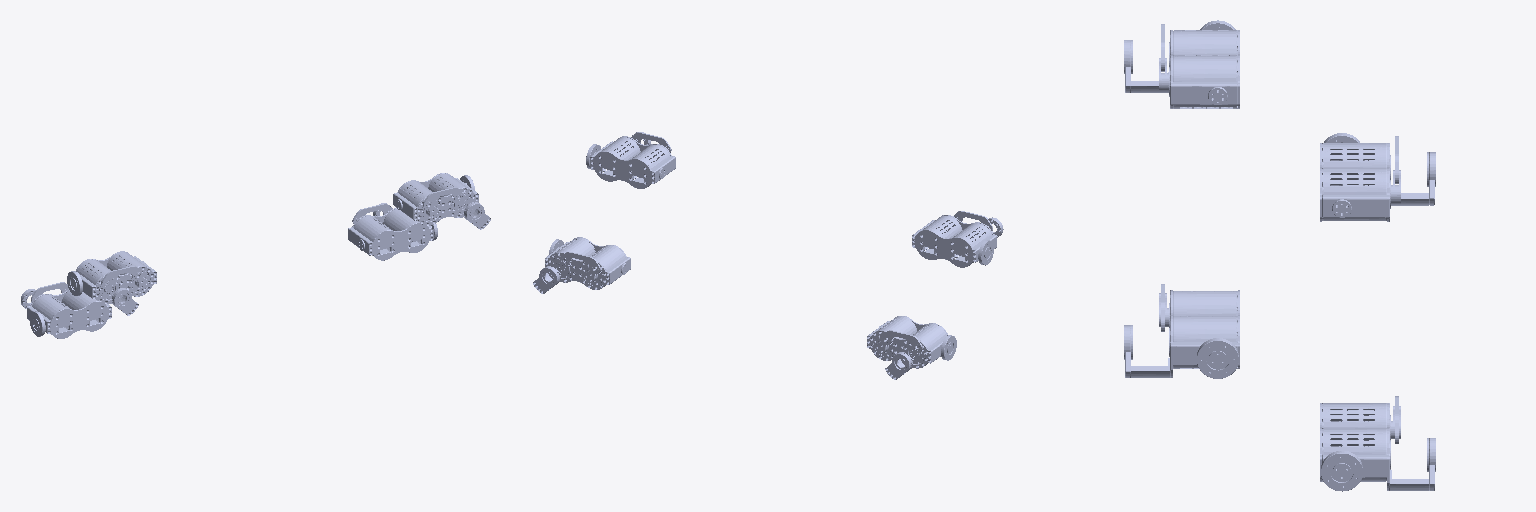
URDF robot description (asm_quadruped_urdf_global2):
<?xml version="1.0" encoding="utf-8"?>
<!-- This URDF was automatically created by SolidWorks to URDF Exporter! Originally created by [author] ([email redacted]) 
     Commit Version: 1.6.0-4-g7f85cfe  Build Version: 1.6.7995.38578
     For more information, please see http://wiki.ros.org/sw_urdf_exporter -->
<robot
  name="asm_quadruped_urdf_global2">
  <link
    name="trunk">
    <inertial>
      <origin
        xyz="0.0066819 -1.5496E-06 -4.069E-05"
        rpy="0 0 0" />
      <mass
        value="3.9043" />
      <inertia
        ixx="0.0056295"
        ixy="1.1505E-06"
        ixz="3.4096E-07"
        iyy="0.0057726"
        iyz="2.6936E-07"
        izz="0.0086203" />
    </inertial>
    <visual>
      <origin
        xyz="0 0 0"
        rpy="0 0 0" />
      <geometry>
        <mesh
          filename="package://asm_quadruped_urdf_global2/meshes/trunk.STL" />
      </geometry>
      <material
        name="">
        <color
          rgba="0.79216 0.81961 0.93333 1" />
      </material>
    </visual>
    <collision>
      <origin
        xyz="0 0 0"
        rpy="0 0 0" />
      <geometry>
        <mesh
          filename="package://asm_quadruped_urdf_global2/meshes/trunk.STL" />
      </geometry>
    </collision>
  </link>
  <link
    name="torso_FL">
    <inertial>
      <origin
        xyz="0.10484 0.028781 0.00052715"
        rpy="0 0 0" />
      <mass
        value="0.90298" />
      <inertia
        ixx="0.00061694"
        ixy="-8.0441E-07"
        ixz="-7.7695E-06"
        iyy="0.00079241"
        iyz="-9.945E-07"
        izz="0.00078387" />
    </inertial>
    <visual>
      <origin
        xyz="0 0 0"
        rpy="0 0 0" />
      <geometry>
        <mesh
          filename="package://asm_quadruped_urdf_global2/meshes/torso_FL.STL" />
      </geometry>
      <material
        name="">
        <color
          rgba="0.79216 0.81961 0.93333 1" />
      </material>
    </visual>
    <collision>
      <origin
        xyz="0 0 0"
        rpy="0 0 0" />
      <geometry>
        <mesh
          filename="package://asm_quadruped_urdf_global2/meshes/torso_FL.STL" />
      </geometry>
    </collision>
  </link>
  <joint
    name="HAA_FL"
    type="revolute">
    <origin
      xyz="0.1958 0 0.095"
      rpy="1.5708 0 0" />
    <parent
      link="trunk" />
    <child
      link="torso_FL" />
    <axis
      xyz="1 0 0" />
    <limit
      lower="0"
      upper="0"
      effort="0"
      velocity="0" />
  </joint>
  <link
    name="thigh_FL">
    <inertial>
      <origin
        xyz="-0.0841820228042324 0.0323812254920831 0.0117646692013723"
        rpy="0 0 0" />
      <mass
        value="0.197725067513953" />
      <inertia
        ixx="3.63731130183477E-05"
        ixy="2.46376714816556E-07"
        ixz="2.72820821144183E-05"
        iyy="0.000648919844755292"
        iyz="-2.63238413268589E-07"
        izz="0.000619067262733183" />
    </inertial>
    <visual>
      <origin
        xyz="0 0 0"
        rpy="0 0 0" />
      <geometry>
        <mesh
          filename="package://asm_quadruped_urdf_global2/meshes/thigh_FL.STL" />
      </geometry>
      <material
        name="">
        <color
          rgba="0.792156862745098 0.819607843137255 0.933333333333333 1" />
      </material>
    </visual>
    <collision>
      <origin
        xyz="0 0 0"
        rpy="0 0 0" />
      <geometry>
        <mesh
          filename="package://asm_quadruped_urdf_global2/meshes/thigh_FL.STL" />
      </geometry>
    </collision>
  </link>
  <joint
    name="HFE_FL"
    type="revolute">
    <origin
      xyz="0.1435 0.0725 0"
      rpy="0 0 0" />
    <parent
      link="torso_FL" />
    <child
      link="thigh_FL" />
    <axis
      xyz="0 1 0" />
    <limit
      lower="0"
      upper="0"
      effort="0"
      velocity="0" />
  </joint>
  <link
    name="shank_FL">
    <inertial>
      <origin
        xyz="-0.145381737250951 0.0209975832186695 -0.00964787397728841"
        rpy="0 0 0" />
      <mass
        value="0.123481337865861" />
      <inertia
        ixx="2.53270212023369E-05"
        ixy="-8.30390976981495E-07"
        ixz="-3.13810726732338E-05"
        iyy="0.000126970769491323"
        iyz="-3.78212835227106E-07"
        izz="0.00011424652805886" />
    </inertial>
    <visual>
      <origin
        xyz="0 0 0"
        rpy="0 0 0" />
      <geometry>
        <mesh
          filename="package://asm_quadruped_urdf_global2/meshes/shank_FL.STL" />
      </geometry>
      <material
        name="">
        <color
          rgba="0.792156862745098 0.819607843137255 0.933333333333333 1" />
      </material>
    </visual>
    <collision>
      <origin
        xyz="0 0 0"
        rpy="0 0 0" />
      <geometry>
        <mesh
          filename="package://asm_quadruped_urdf_global2/meshes/shank_FL.STL" />
      </geometry>
    </collision>
  </link>
  <joint
    name="KFE_FL"
    type="revolute">
    <origin
      xyz="-0.25 0.011794 0"
      rpy="0 0 0" />
    <parent
      link="thigh_FL" />
    <child
      link="shank_FL" />
    <axis
      xyz="0 1 0" />
    <limit
      lower="0"
      upper="0"
      effort="0"
      velocity="0" />
  </joint>
  <link
    name="torso_FR">
    <inertial>
      <origin
        xyz="0.104820136702387 -0.0287811371973977 0.000527147399617903"
        rpy="0 0 0" />
      <mass
        value="0.902977752384198" />
      <inertia
        ixx="0.000616937686058214"
        ixy="-1.25306828651702E-07"
        ixz="-5.81887468957732E-06"
        iyy="0.000792405346779906"
        iyz="9.94503533334041E-07"
        izz="0.000783874594599424" />
    </inertial>
    <visual>
      <origin
        xyz="0 0 0"
        rpy="0 0 0" />
      <geometry>
        <mesh
          filename="package://asm_quadruped_urdf_global2/meshes/torso_FR.STL" />
      </geometry>
      <material
        name="">
        <color
          rgba="0.792156862745098 0.819607843137255 0.933333333333333 1" />
      </material>
    </visual>
    <collision>
      <origin
        xyz="0 0 0"
        rpy="0 0 0" />
      <geometry>
        <mesh
          filename="package://asm_quadruped_urdf_global2/meshes/torso_FR.STL" />
      </geometry>
    </collision>
  </link>
  <joint
    name="HAA_FR"
    type="revolute">
    <origin
      xyz="0.1958 0 -0.095"
      rpy="1.5708 0 0" />
    <parent
      link="trunk" />
    <child
      link="torso_FR" />
    <axis
      xyz="1 0 0" />
    <limit
      lower="0"
      upper="0"
      effort="0"
      velocity="0" />
  </joint>
  <link
    name="thigh_FR">
    <inertial>
      <origin
        xyz="-0.084082296396937 -0.0323849902334104 0.0117749829657437"
        rpy="0 0 0" />
      <mass
        value="0.19773225607711" />
      <inertia
        ixx="3.63304963829386E-05"
        ixy="-1.55662598874176E-07"
        ixz="2.75332840428481E-05"
        iyy="0.00064901836683965"
        iyz="2.39187463816239E-07"
        izz="0.000619208457707713" />
    </inertial>
    <visual>
      <origin
        xyz="0 0 0"
        rpy="0 0 0" />
      <geometry>
        <mesh
          filename="package://asm_quadruped_urdf_global2/meshes/thigh_FR.STL" />
      </geometry>
      <material
        name="">
        <color
          rgba="0.792156862745098 0.819607843137255 0.933333333333333 1" />
      </material>
    </visual>
    <collision>
      <origin
        xyz="0 0 0"
        rpy="0 0 0" />
      <geometry>
        <mesh
          filename="package://asm_quadruped_urdf_global2/meshes/thigh_FR.STL" />
      </geometry>
    </collision>
  </link>
  <joint
    name="HFE_FR"
    type="revolute">
    <origin
      xyz="0.1435 -0.0725 0"
      rpy="0 0 0" />
    <parent
      link="torso_FR" />
    <child
      link="thigh_FR" />
    <axis
      xyz="0 1 0" />
    <limit
      lower="0"
      upper="0"
      effort="0"
      velocity="0" />
  </joint>
  <link
    name="shank_FR">
    <inertial>
      <origin
        xyz="-0.145381737250951 -0.0214150403096949 -0.00964787397739331"
        rpy="0 0 0" />
      <mass
        value="0.123481337865861" />
      <inertia
        ixx="2.53270212023369E-05"
        ixy="-8.30390976981506E-07"
        ixz="-3.13810726732337E-05"
        iyy="0.000126970769491323"
        iyz="-3.78212835227108E-07"
        izz="0.00011424652805886" />
    </inertial>
    <visual>
      <origin
        xyz="0 0 0"
        rpy="0 0 0" />
      <geometry>
        <mesh
          filename="package://asm_quadruped_urdf_global2/meshes/shank_FR.STL" />
      </geometry>
      <material
        name="">
        <color
          rgba="0.792156862745098 0.819607843137255 0.933333333333333 1" />
      </material>
    </visual>
    <collision>
      <origin
        xyz="0 0 0"
        rpy="0 0 0" />
      <geometry>
        <mesh
          filename="package://asm_quadruped_urdf_global2/meshes/shank_FR.STL" />
      </geometry>
    </collision>
  </link>
  <joint
    name="KFE_FR"
    type="revolute">
    <origin
      xyz="-0.25 -0.011794 0"
      rpy="0 0 0" />
    <parent
      link="thigh_FR" />
    <child
      link="shank_FR" />
    <axis
      xyz="0 1 0" />
    <limit
      lower="0"
      upper="0"
      effort="0"
      velocity="0" />
  </joint>
  <link
    name="torso_RL">
    <inertial>
      <origin
        xyz="-0.103224568313515 0.0287457122923878 0.000507321218520848"
        rpy="0 0 0" />
      <mass
        value="0.902220673039644" />
      <inertia
        ixx="0.000616568691968008"
        ixy="-7.69171065211726E-07"
        ixz="-2.05162497790683E-06"
        iyy="0.000781784235121968"
        iyz="-9.93264083041245E-07"
        izz="0.000773620453879042" />
    </inertial>
    <visual>
      <origin
        xyz="0 0 0"
        rpy="0 0 0" />
      <geometry>
        <mesh
          filename="package://asm_quadruped_urdf_global2/meshes/torso_RL.STL" />
      </geometry>
      <material
        name="">
        <color
          rgba="0.792156862745098 0.819607843137255 0.933333333333333 1" />
      </material>
    </visual>
    <collision>
      <origin
        xyz="0 0 0"
        rpy="0 0 0" />
      <geometry>
        <mesh
          filename="package://asm_quadruped_urdf_global2/meshes/torso_RL.STL" />
      </geometry>
    </collision>
  </link>
  <joint
    name="HAA_RL"
    type="revolute">
    <origin
      xyz="-0.17717 0 0.095"
      rpy="1.5708 0 0" />
    <parent
      link="trunk" />
    <child
      link="torso_RL" />
    <axis
      xyz="1 0 0" />
    <limit
      lower="0"
      upper="0"
      effort="0"
      velocity="0" />
  </joint>
  <link
    name="thigh_RL">
    <inertial>
      <origin
        xyz="-0.0841820228042314 0.0323812254919711 0.0117646692013132"
        rpy="0 0 0" />
      <mass
        value="0.197725067513951" />
      <inertia
        ixx="3.63731130183477E-05"
        ixy="2.46376714817519E-07"
        ixz="2.72820821144177E-05"
        iyy="0.000648919844755276"
        iyz="-2.63238413268672E-07"
        izz="0.000619067262733166" />
    </inertial>
    <visual>
      <origin
        xyz="0 0 0"
        rpy="0 0 0" />
      <geometry>
        <mesh
          filename="package://asm_quadruped_urdf_global2/meshes/thigh_RL.STL" />
      </geometry>
      <material
        name="">
        <color
          rgba="0.792156862745098 0.819607843137255 0.933333333333333 1" />
      </material>
    </visual>
    <collision>
      <origin
        xyz="0 0 0"
        rpy="0 0 0" />
      <geometry>
        <mesh
          filename="package://asm_quadruped_urdf_global2/meshes/thigh_RL.STL" />
      </geometry>
    </collision>
  </link>
  <joint
    name="HFE_RL"
    type="revolute">
    <origin
      xyz="-0.1435 0.0725 0"
      rpy="0 0 0" />
    <parent
      link="torso_RL" />
    <child
      link="thigh_RL" />
    <axis
      xyz="0 1 0" />
    <limit
      lower="0"
      upper="0"
      effort="0"
      velocity="0" />
  </joint>
  <link
    name="shank_RL">
    <inertial>
      <origin
        xyz="-0.145381737250951 0.0209975832185437 -0.00964787397739134"
        rpy="0 0 0" />
      <mass
        value="0.123481337865861" />
      <inertia
        ixx="2.53270212023369E-05"
        ixy="-8.30390976981506E-07"
        ixz="-3.13810726732337E-05"
        iyy="0.000126970769491323"
        iyz="-3.78212835227112E-07"
        izz="0.00011424652805886" />
    </inertial>
    <visual>
      <origin
        xyz="0 0 0"
        rpy="0 0 0" />
      <geometry>
        <mesh
          filename="package://asm_quadruped_urdf_global2/meshes/shank_RL.STL" />
      </geometry>
      <material
        name="">
        <color
          rgba="0.792156862745098 0.819607843137255 0.933333333333333 1" />
      </material>
    </visual>
    <collision>
      <origin
        xyz="0 0 0"
        rpy="0 0 0" />
      <geometry>
        <mesh
          filename="package://asm_quadruped_urdf_global2/meshes/shank_RL.STL" />
      </geometry>
    </collision>
  </link>
  <joint
    name="KFE_RL"
    type="revolute">
    <origin
      xyz="-0.25 0.011794 0"
      rpy="0 0 0" />
    <parent
      link="thigh_RL" />
    <child
      link="shank_RL" />
    <axis
      xyz="0 1 0" />
    <limit
      lower="0"
      upper="0"
      effort="0"
      velocity="0" />
  </joint>
  <link
    name="torso_RR">
    <inertial>
      <origin
        xyz="-0.10324 -0.028746 0.00050732"
        rpy="0 0 0" />
      <mass
        value="0.90222" />
      <inertia
        ixx="0.00061657"
        ixy="-1.6055E-07"
        ixz="-1.0102E-07"
        iyy="0.00078178"
        iyz="9.9327E-07"
        izz="0.00077362" />
    </inertial>
    <visual>
      <origin
        xyz="0 0 0"
        rpy="0 0 0" />
      <geometry>
        <mesh
          filename="package://asm_quadruped_urdf_global2/meshes/torso_RR.STL" />
      </geometry>
      <material
        name="">
        <color
          rgba="0.79216 0.81961 0.93333 1" />
      </material>
    </visual>
    <collision>
      <origin
        xyz="0 0 0"
        rpy="0 0 0" />
      <geometry>
        <mesh
          filename="package://asm_quadruped_urdf_global2/meshes/torso_RR.STL" />
      </geometry>
    </collision>
  </link>
  <joint
    name="HAA_RR"
    type="revolute">
    <origin
      xyz="-0.17717 0 -0.095"
      rpy="1.5708 0 0" />
    <parent
      link="trunk" />
    <child
      link="torso_RR" />
    <axis
      xyz="1 0 0" />
    <limit
      lower="0"
      upper="0"
      effort="0"
      velocity="0" />
  </joint>
  <link
    name="thigh_RR">
    <inertial>
      <origin
        xyz="-0.084082 -0.032385 0.011775"
        rpy="0 0 0" />
      <mass
        value="0.19773" />
      <inertia
        ixx="3.633E-05"
        ixy="-1.5566E-07"
        ixz="2.7533E-05"
        iyy="0.00064902"
        iyz="2.3919E-07"
        izz="0.00061921" />
    </inertial>
    <visual>
      <origin
        xyz="0 0 0"
        rpy="0 0 0" />
      <geometry>
        <mesh
          filename="package://asm_quadruped_urdf_global2/meshes/thigh_RR.STL" />
      </geometry>
      <material
        name="">
        <color
          rgba="0.79216 0.81961 0.93333 1" />
      </material>
    </visual>
    <collision>
      <origin
        xyz="0 0 0"
        rpy="0 0 0" />
      <geometry>
        <mesh
          filename="package://asm_quadruped_urdf_global2/meshes/thigh_RR.STL" />
      </geometry>
    </collision>
  </link>
  <joint
    name="HFE_RR"
    type="revolute">
    <origin
      xyz="-0.1435 -0.0725 0"
      rpy="0 0 0" />
    <parent
      link="torso_RR" />
    <child
      link="thigh_RR" />
    <axis
      xyz="0 1 0" />
    <limit
      lower="0"
      upper="0"
      effort="0"
      velocity="0" />
  </joint>
  <link
    name="shank_RR">
    <inertial>
      <origin
        xyz="-0.14538 -0.021415 -0.0096479"
        rpy="0 0 0" />
      <mass
        value="0.12348" />
      <inertia
        ixx="2.5327E-05"
        ixy="-8.3039E-07"
        ixz="-3.1381E-05"
        iyy="0.00012697"
        iyz="-3.7821E-07"
        izz="0.00011425" />
    </inertial>
    <visual>
      <origin
        xyz="0 0 0"
        rpy="0 0 0" />
      <geometry>
        <mesh
          filename="package://asm_quadruped_urdf_global2/meshes/shank_RR.STL" />
      </geometry>
      <material
        name="">
        <color
          rgba="0.79216 0.81961 0.93333 1" />
      </material>
    </visual>
    <collision>
      <origin
        xyz="0 0 0"
        rpy="0 0 0" />
      <geometry>
        <mesh
          filename="package://asm_quadruped_urdf_global2/meshes/shank_RR.STL" />
      </geometry>
    </collision>
  </link>
  <joint
    name="KFE_RR"
    type="revolute">
    <origin
      xyz="-0.25 -0.011794 0"
      rpy="0 0 0" />
    <parent
      link="thigh_RR" />
    <child
      link="shank_RR" />
    <axis
      xyz="0 1 0" />
    <limit
      lower="0"
      upper="0"
      effort="0"
      velocity="0" />
  </joint>
</robot>

--- Render facts (derived) ---
3 views of the same robot in one strip: view 1: azimuth 30°, elevation 25°; view 2: azimuth 150°, elevation 25°; view 3: azimuth 270°, elevation 25° (orthographic).
Robot: asm_quadruped_urdf_global2 — 13 links, 12 joints (12 revolute); root link trunk; default pose: every joint at zero.
Visible links, largest first — view 1: torso_FL, torso_RL, torso_RR, torso_FR; view 2: torso_RL, torso_FR, torso_RR, torso_FL; view 3: torso_FR, torso_FL, torso_RR, torso_RL.
Boxes of the visible links, left/top/right/bottom form: torso_FL: left=393, top=173, right=490, bottom=229; torso_RL: left=67, top=251, right=156, bottom=315; torso_RR: left=21, top=282, right=111, bottom=338; torso_FR: left=348, top=203, right=437, bottom=260; torso_RL: left=912, top=211, right=1003, bottom=267; torso_FR: left=533, top=237, right=630, bottom=293; torso_RR: left=867, top=316, right=956, bottom=379; torso_FL: left=586, top=132, right=675, bottom=188; torso_FR: left=1320, top=396, right=1435, bottom=491; torso_FL: left=1124, top=284, right=1239, bottom=378; torso_RR: left=1320, top=133, right=1435, bottom=221; torso_RL: left=1124, top=20, right=1239, bottom=108.
Size in the robot's own frame: 1.16 by 0.477 by 0.2968 metres.
4 mesh visuals loaded from 13 distinct referenced files (4 binary STL); not drawn: 9 (reference not matched to a file when rendering).